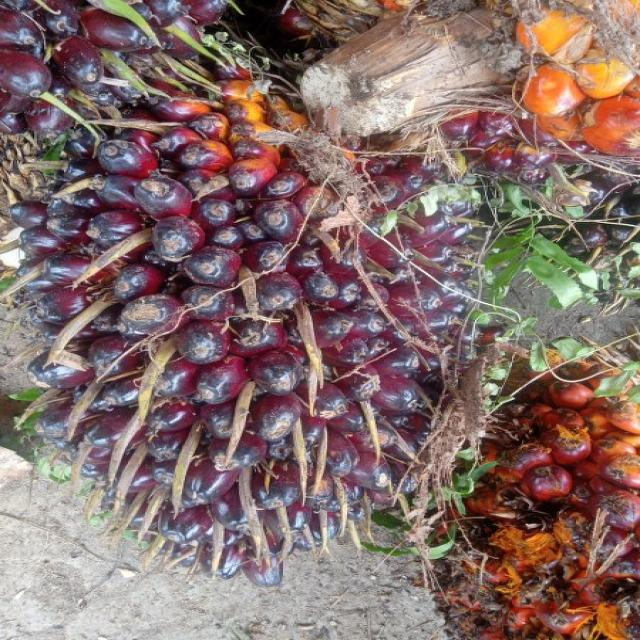fraksi 1: (0, 44, 503, 615)
